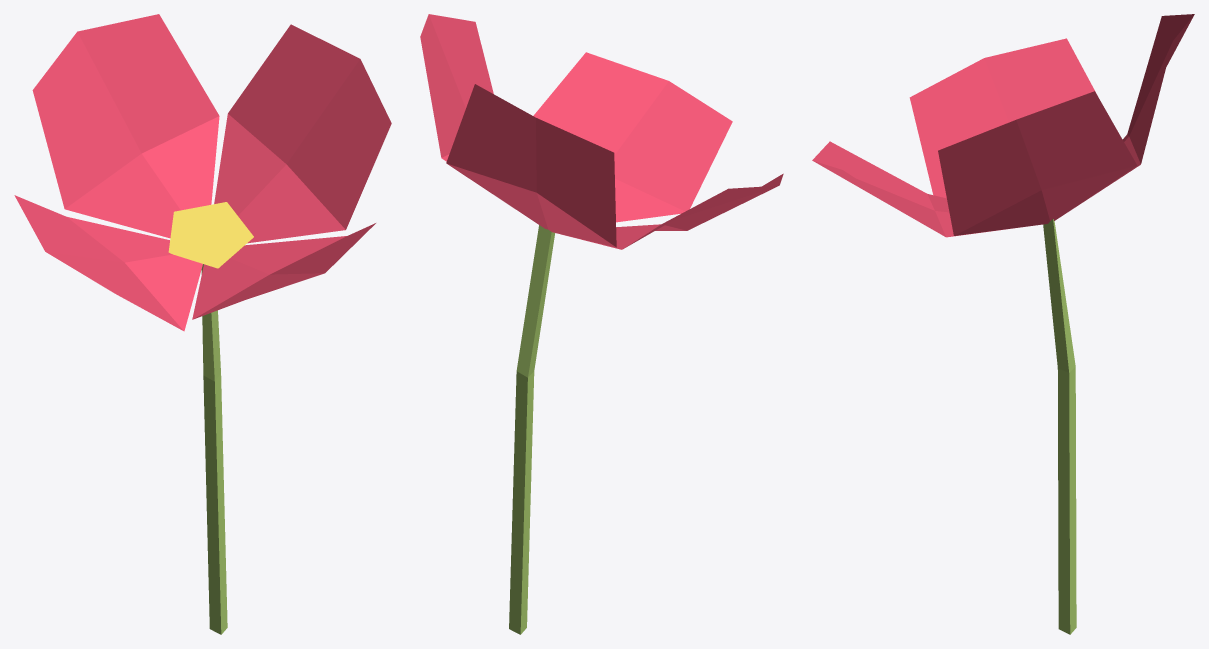
Rendered from Flower_c_OneS_05.fbx.
3 views of the same model, side by side, from view 1: azimuth 30°, elevation 25°; view 2: azimuth 150°, elevation 25°; view 3: azimuth 270°, elevation 25° (orthographic).
Visible parts, largest first — view 1: Flower_c_OneS_05; view 2: Flower_c_OneS_05; view 3: Flower_c_OneS_05.
Part boxes in pixels (<box>): Flower_c_OneS_05: <box>14,14,391,634</box>; Flower_c_OneS_05: <box>420,14,783,634</box>; Flower_c_OneS_05: <box>812,14,1194,634</box>.
Bounding box in the file's own units: 0.2568 × 0.4303 × 0.2549.
